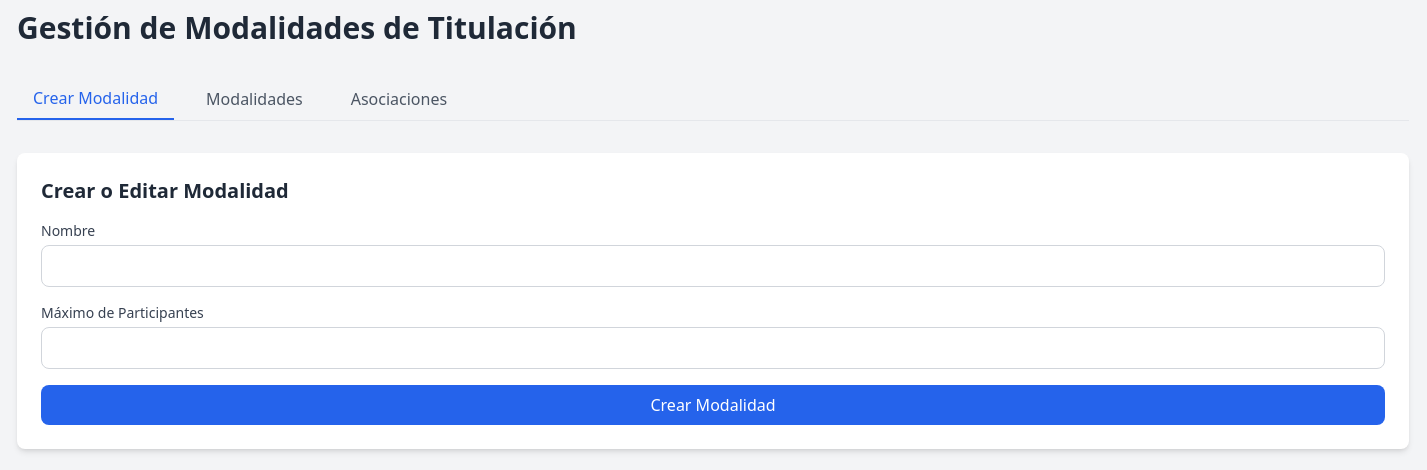
Test: ModalidadesTitulacion › allows creating a new modality
This screenshot has width=1427, height=470.
# Fill the form
Step 1. Type "Nueva Modalidad" into the field labelled "Nombre" → [713, 266], box [41,245,1385,287]
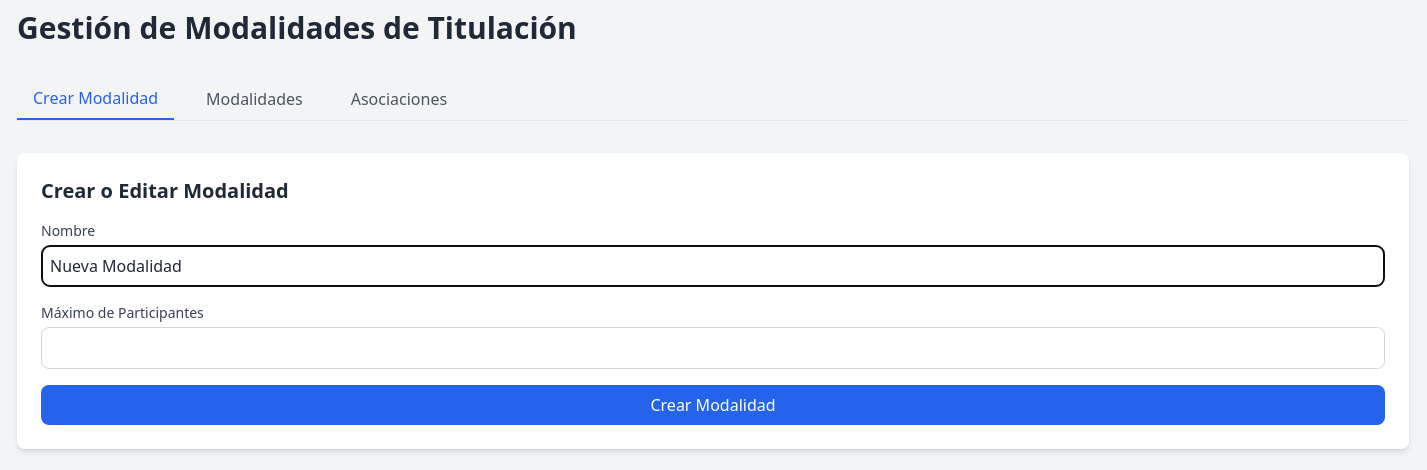
Step 2. Type "10" into the number field labelled "Máximo de Participantes" → [713, 348], box [41,327,1385,369]
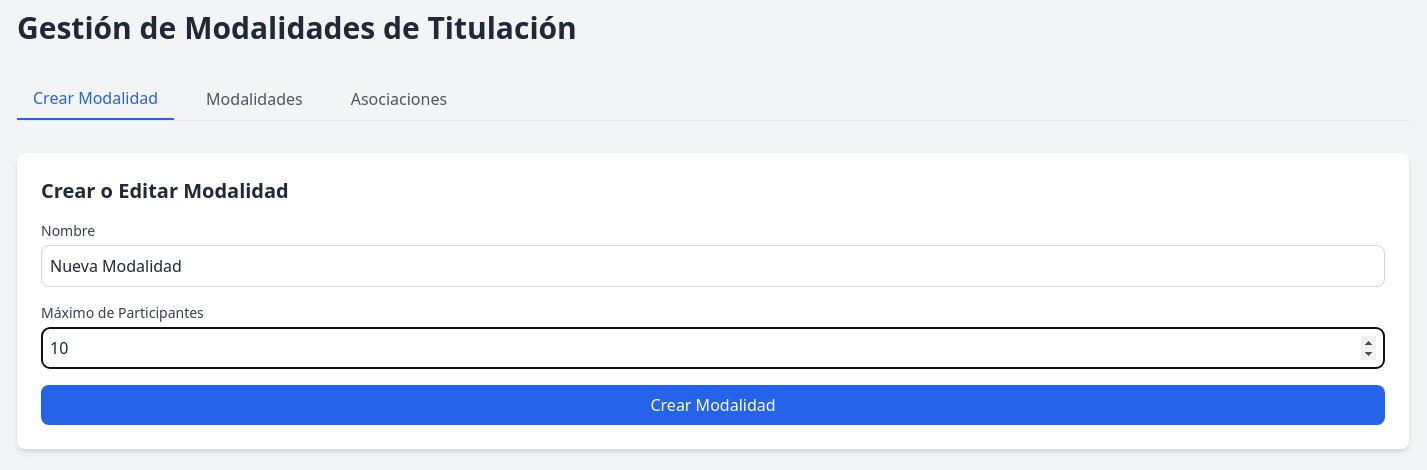
# Submit the form
Step 3. Click the button "Crear Modalidad" below "Máximo de Participantes" → [713, 405], box [41,385,1385,425]
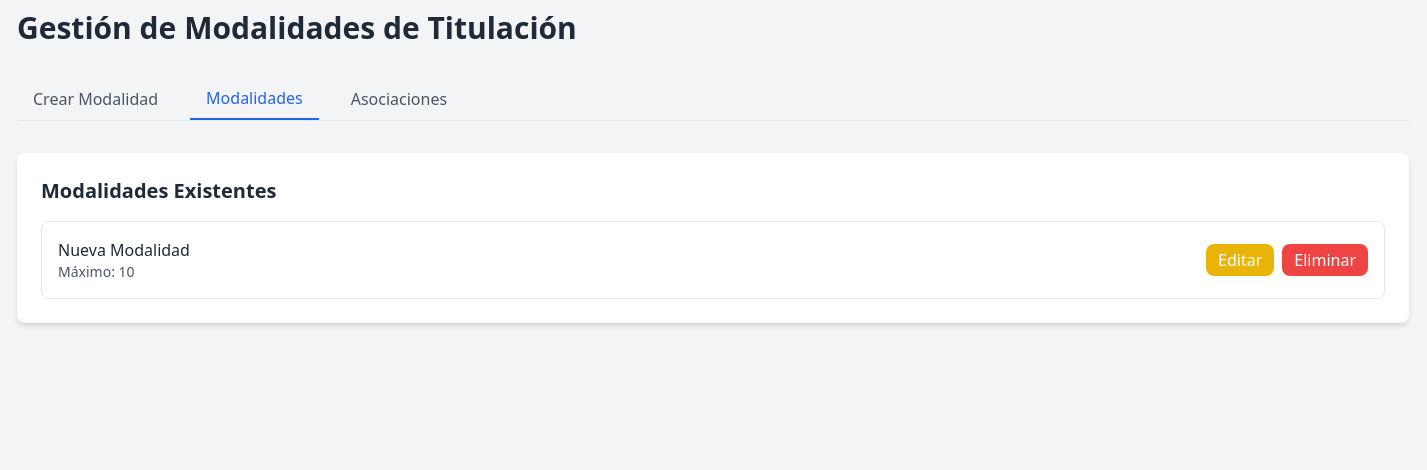
Result: the text "Nueva Modalidad" is shown at [58,238,190,262]
Result: the text "Máximo: 10" is shown at [58,262,135,281]
